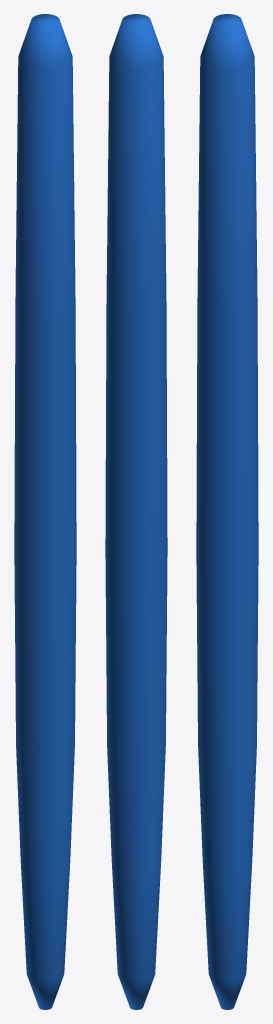
File: pen.dae
3 renders of one model, left to right at view 1: azimuth 90°, elevation 25°; view 2: azimuth 150°, elevation 25°; view 3: azimuth 270°, elevation 25°, orthographic.
Parts seen in each view (by area): view 1: Cylinder_001; view 2: Cylinder_001; view 3: Cylinder_001.
Boxes of the visible parts, bbox=[...] form: Cylinder_001: bbox=[14, 14, 76, 1009]; Cylinder_001: bbox=[105, 14, 167, 1009]; Cylinder_001: bbox=[196, 14, 258, 1009].
Bounding box in the file's own units: 0.0114 × 0.0114 × 0.2.
